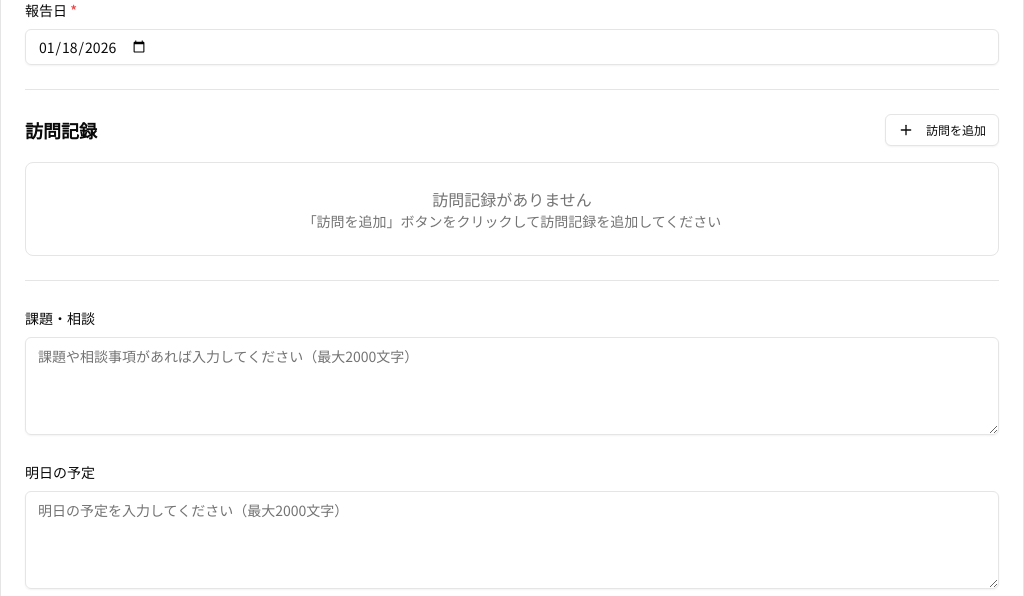
Test case: ReportForm › add visit functionality › should be able to add multiple visit records
Click the button "訪問を追加": (942, 130) x1=885 y1=114 x2=999 y2=146
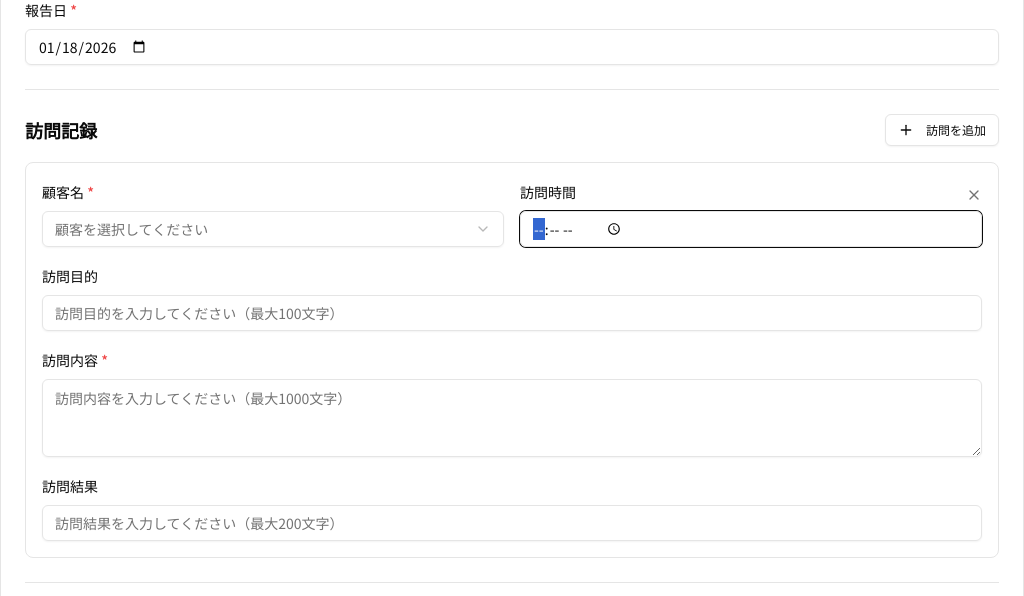
Click the button "訪問を追加": (942, 130) x1=885 y1=114 x2=999 y2=146
(page scrolled)
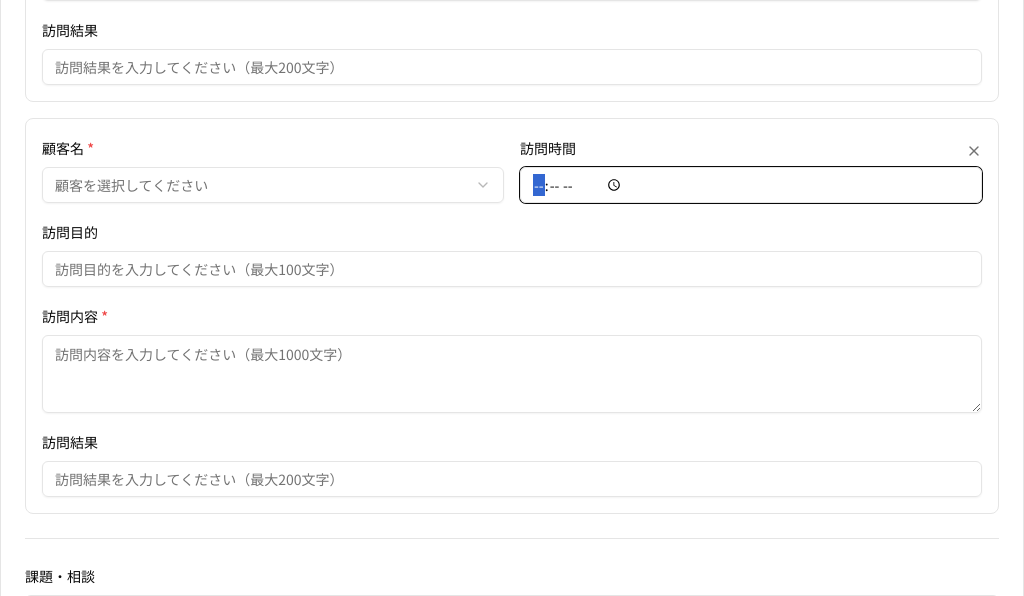
Check: the element named "訪問記録 2" is shown
